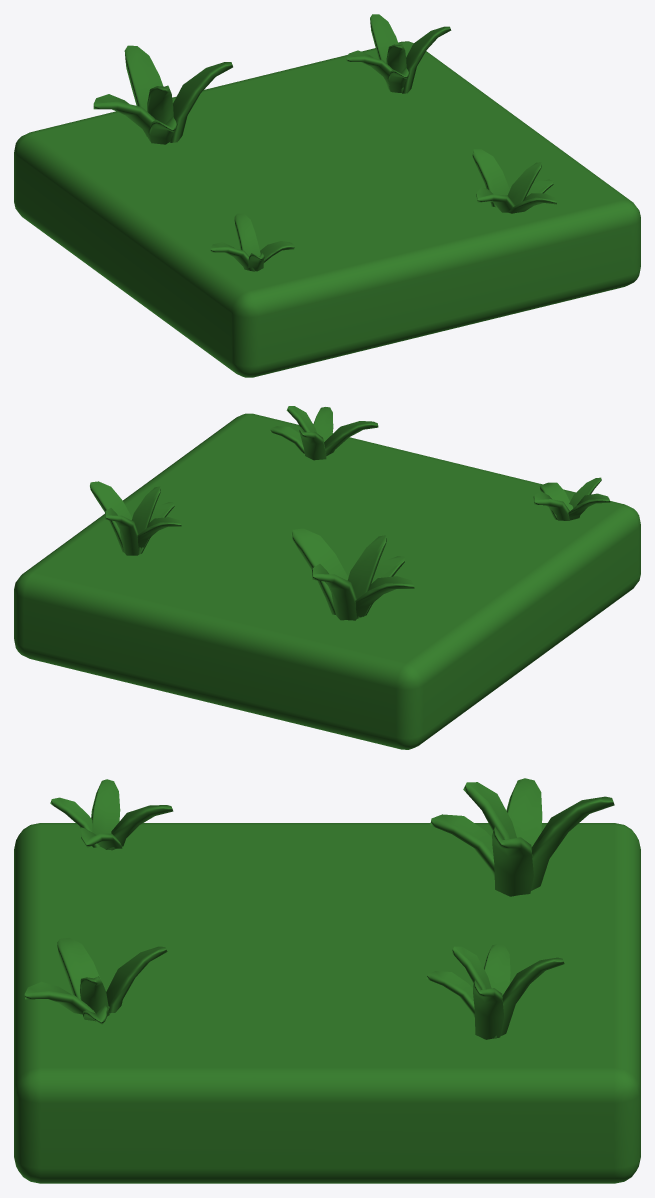
Rendered from GroundTile_Grass.fbx.
The picture shows the model from 3 angles, top to bottom: view 1: azimuth 30°, elevation 25°; view 2: azimuth 150°, elevation 25°; view 3: azimuth 270°, elevation 25°; orthographic projection. The views are drawn at different scales.
Parts seen in each view (by area): view 1: GroundTile_Grass; view 2: GroundTile_Grass; view 3: GroundTile_Grass.
Boxes of the visible parts, x1,y1,x2,y2 form: GroundTile_Grass: (14,14,640,377); GroundTile_Grass: (14,406,640,749); GroundTile_Grass: (14,778,640,1183).
Bounding box in the file's own units: 1 × 0.3624 × 1.
